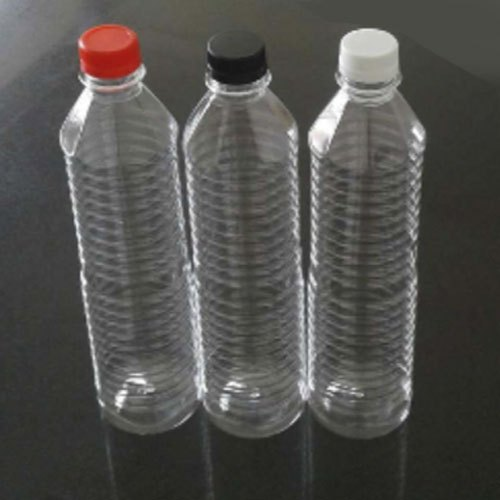plastic_bottle: (55, 19, 200, 438), (305, 23, 433, 446), (178, 26, 307, 439)
